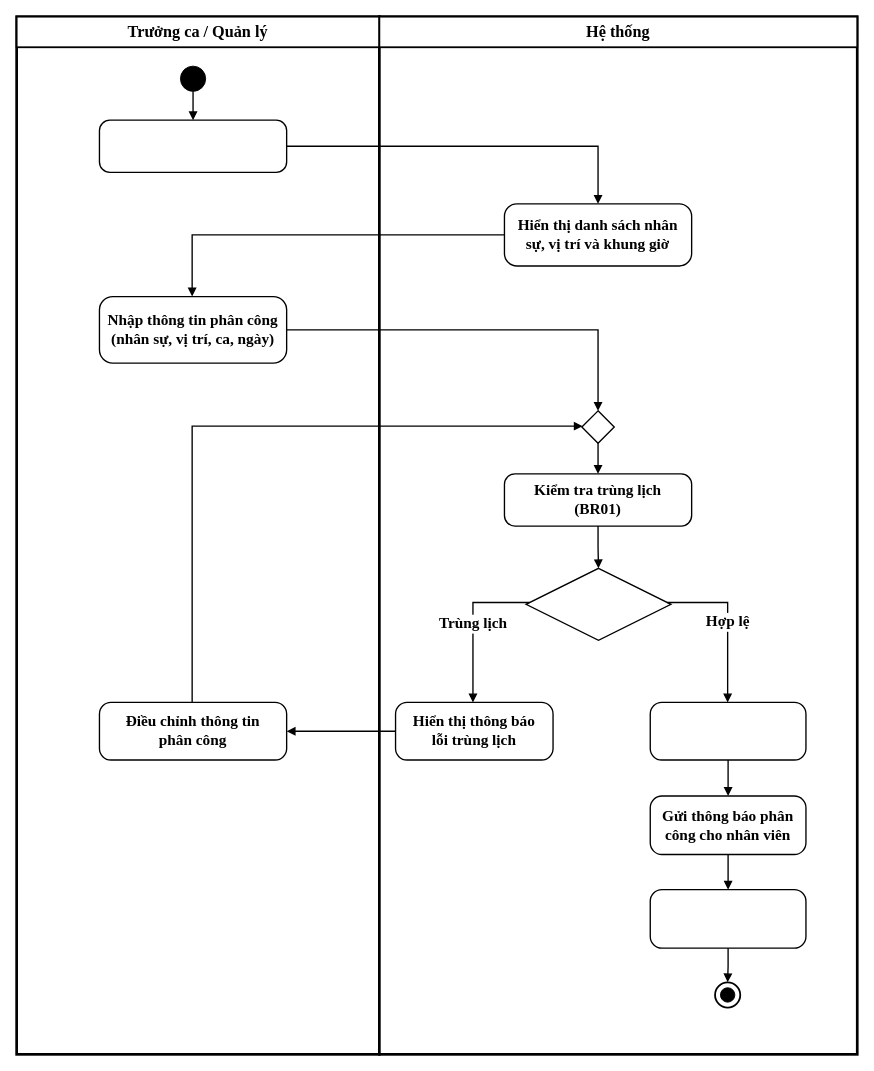
Image size: 874x1071. Some labels were removed from this diagram. The centre of each missing label's shape, as x and y in pixels:
"Chọn chức năng phân công lịch trực" belongs at point (192, 146).
"Có trùng lịch?" belongs at point (598, 604).
"Hiển thị thông báo phân công thành công" belongs at point (727, 918).
"Lưu lịch trực vào CSDL" belongs at point (727, 730).
